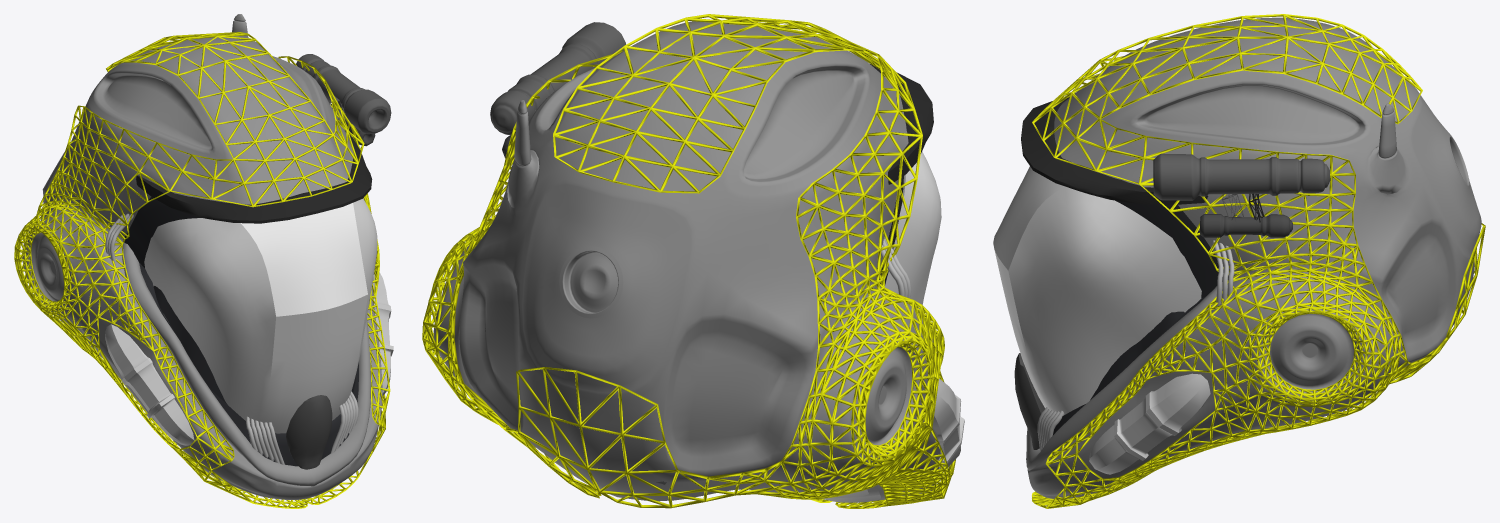
The model's file is proto_helmet.dae.
3 renders of one model, left to right at view 1: azimuth 30°, elevation 25°; view 2: azimuth 150°, elevation 25°; view 3: azimuth 270°, elevation 25°, orthographic. The views are drawn at different scales.
Parts seen in each view (by area): view 1: Helmet Core, Plane, Helmet Core.002, SafetyThing, Cube, Plane.007, Helmet Core.001, Cube.002, Cube.001, Plane.005; view 2: Helmet Core, Helmet Core.002, Cube.002, Plane, Plane.007, Cube; view 3: Helmet Core, Helmet Core.002, Plane, Cube.002, Cube, Plane.007, Helmet Core.001, SafetyThing, Cube.006, Cube.001, Plane.005.
Part boxes in pixels (left/top/right/bottom): Helmet Core: left=22, top=14, right=382, bottom=499; Plane: left=144, top=198, right=377, bottom=433; Helmet Core.002: left=14, top=32, right=390, bottom=508; SafetyThing: left=122, top=242, right=371, bottom=486; Cube: left=105, top=272, right=393, bottom=445; Plane.007: left=136, top=130, right=372, bottom=223; Helmet Core.001: left=123, top=197, right=358, bottom=466; Cube.002: left=296, top=54, right=391, bottom=134; Cube.001: left=286, top=395, right=332, bottom=469; Plane.005: left=246, top=391, right=358, bottom=464; Helmet Core: left=433, top=21, right=940, bottom=502; Helmet Core.002: left=422, top=14, right=955, bottom=508; Cube.002: left=490, top=22, right=625, bottom=134; Plane: left=885, top=151, right=941, bottom=308; Plane.007: left=870, top=64, right=933, bottom=184; Cube: left=932, top=378, right=964, bottom=468; Helmet Core: left=1027, top=17, right=1481, bottom=498; Helmet Core.002: left=1032, top=14, right=1485, bottom=508; Plane: left=993, top=166, right=1201, bottom=414; Cube.002: left=1153, top=153, right=1330, bottom=200; Cube: left=1089, top=373, right=1210, bottom=474; Plane.007: left=1021, top=97, right=1208, bottom=204; Helmet Core.001: left=1039, top=200, right=1228, bottom=448; SafetyThing: left=1026, top=282, right=1227, bottom=470; Cube.006: left=1200, top=214, right=1292, bottom=237; Cube.001: left=1014, top=353, right=1045, bottom=449; Plane.005: left=1037, top=407, right=1064, bottom=451.
Size of the model in its own units: 0.3311 by 0.3888 by 0.3965.
